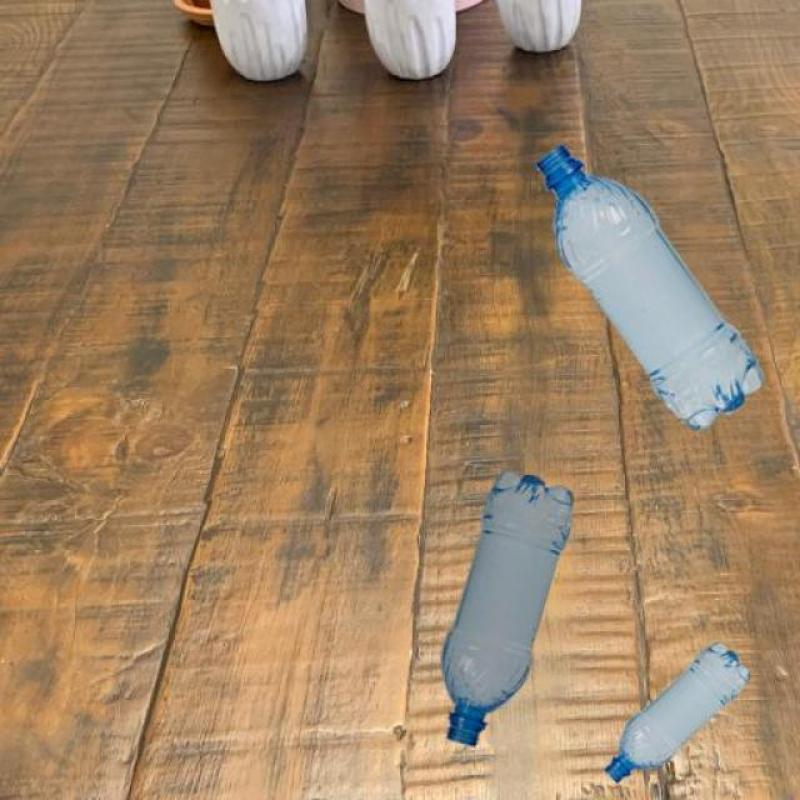botella: (534, 142, 766, 432), (439, 471, 575, 747), (604, 642, 751, 784)
